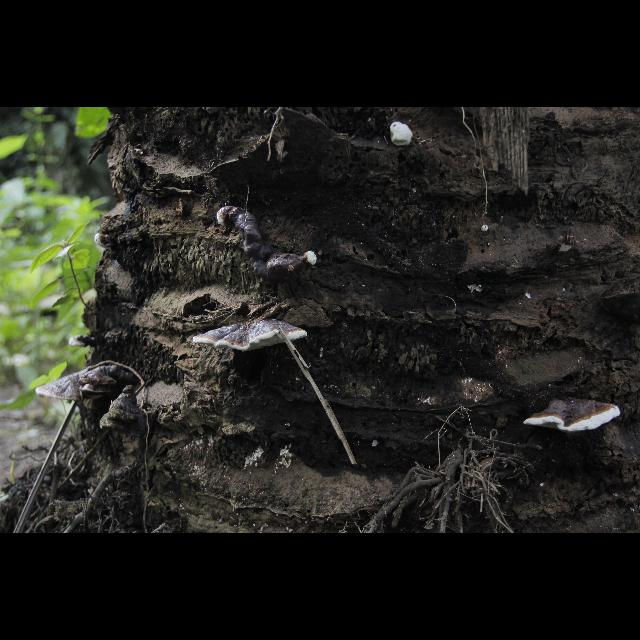ganoderma: (232, 207, 306, 284), (193, 317, 309, 353), (524, 398, 622, 436), (36, 368, 101, 403), (79, 365, 123, 395), (69, 336, 97, 348)
primordium: (390, 122, 415, 148), (95, 234, 116, 251), (218, 206, 233, 228), (306, 251, 318, 267), (482, 226, 491, 235)
